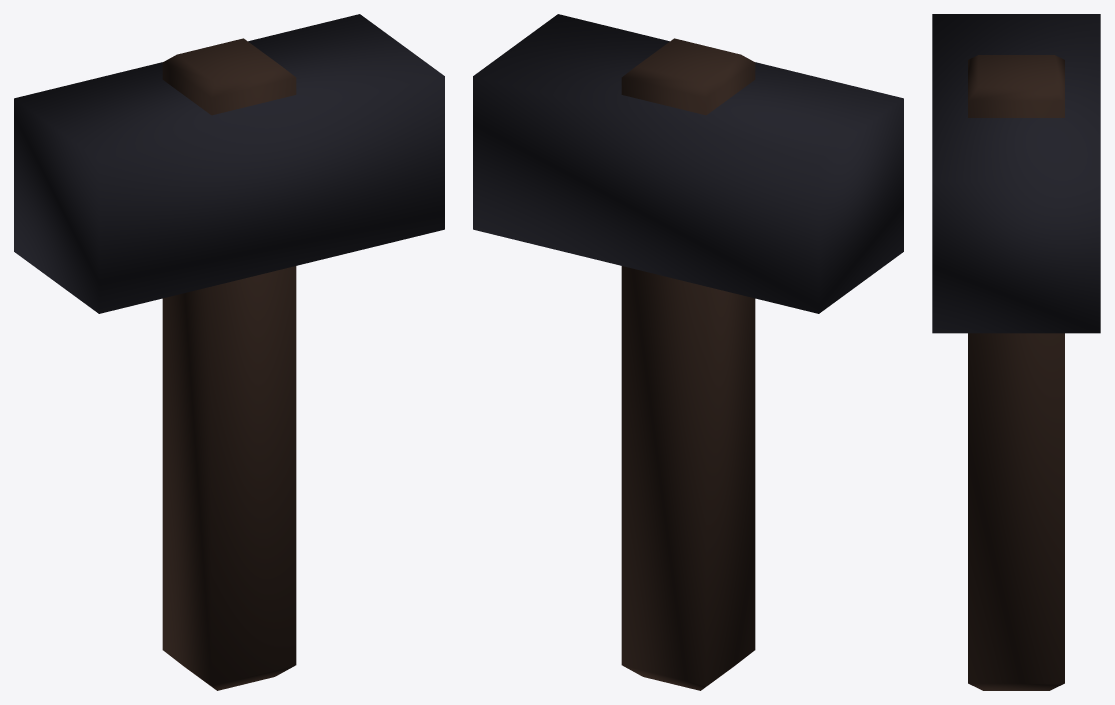
The model's file is build_hammer.fbx.
3 views of the same model, side by side, from view 1: azimuth 30°, elevation 25°; view 2: azimuth 150°, elevation 25°; view 3: azimuth 270°, elevation 25° (orthographic).
Parts seen in each view (by area): view 1: build_hammer; view 2: build_hammer; view 3: build_hammer.
Boxes of the visible parts, box(x1,y1,x2,y2) form: build_hammer: box(14, 14, 444, 690); build_hammer: box(473, 14, 903, 690); build_hammer: box(932, 14, 1100, 690).
Bounding box in the file's own units: 20.61 × 48.41 × 81.76.
